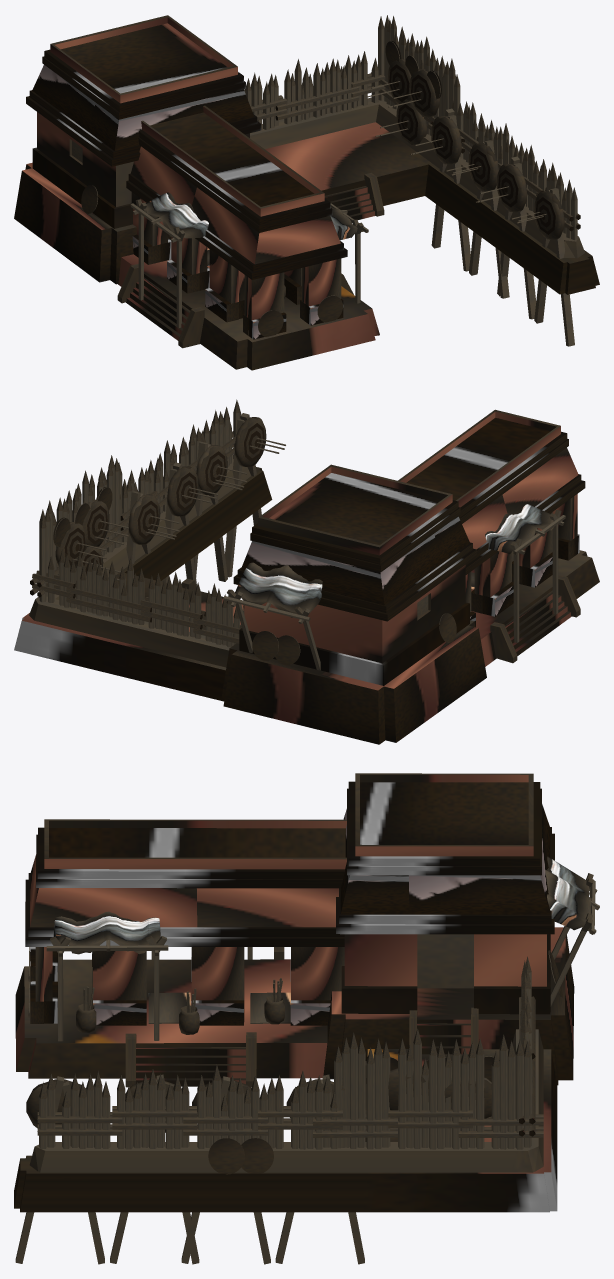
The model's file is range.dae.
The picture shows the model from 3 angles, top to bottom: view 1: azimuth 30°, elevation 25°; view 2: azimuth 150°, elevation 25°; view 3: azimuth 270°, elevation 25°; orthographic projection. The views are drawn at different scales.
Visible parts, largest first — view 1: Range.001; view 2: Range.001; view 3: Range.001.
Boxes of the visible parts, <box> form: Range.001: <box>14,15,599,370</box>; Range.001: <box>14,399,599,744</box>; Range.001: <box>14,773,599,1264</box>.
Size of the model in its own units: 24.87 by 26.33 by 14.5.
